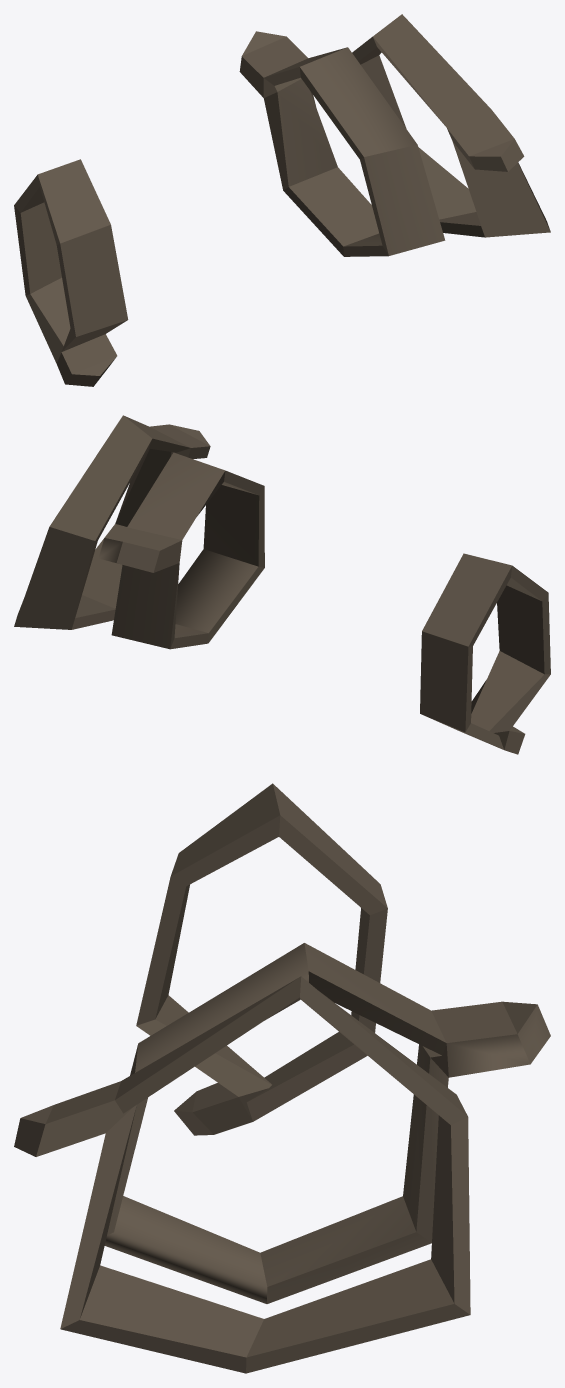
The model's file is Chr_ArmUpperRight_Female_03_Drop.fbx.
3 renders of one model, top to bottom at view 1: azimuth 30°, elevation 25°; view 2: azimuth 150°, elevation 25°; view 3: azimuth 270°, elevation 25°, orthographic. The views are drawn at different scales.
Visible parts, largest first — view 1: Chr_ArmUpperRight_Female_03_Static; view 2: Chr_ArmUpperRight_Female_03_Static; view 3: Chr_ArmUpperRight_Female_03_Static.
Part boxes in pixels (bbox=[...]): Chr_ArmUpperRight_Female_03_Static: bbox=[14, 14, 550, 386]; Chr_ArmUpperRight_Female_03_Static: bbox=[14, 415, 550, 754]; Chr_ArmUpperRight_Female_03_Static: bbox=[14, 783, 550, 1373].
Size of the model in its own units: 27.48 by 15.27 by 17.32.
